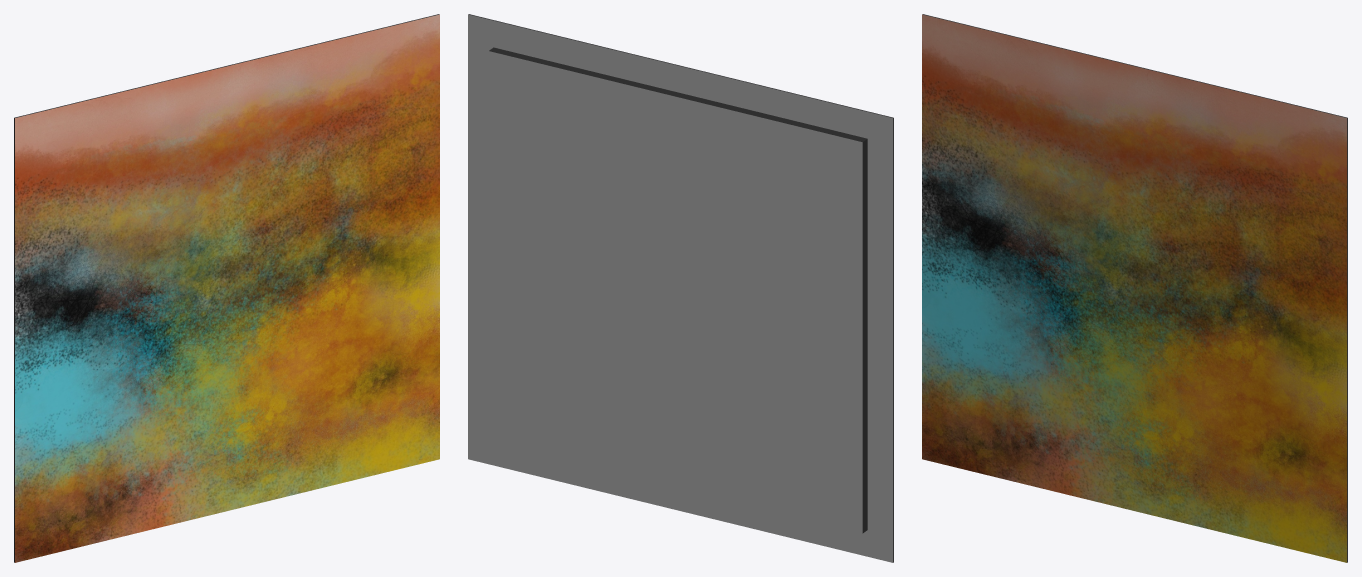
File: va238_grand_dibond.glb
The picture shows the model from 3 angles, left to right: view 1: azimuth 30°, elevation 25°; view 2: azimuth 150°, elevation 25°; view 3: azimuth 330°, elevation 25°; orthographic projection.
Visible parts, largest first — view 1: va238_grand_dibond; view 2: va238_grand_dibond; view 3: va238_grand_dibond.
Boxes of the visible parts, x1,y1,x2,y2 form: va238_grand_dibond: [14, 14, 439, 562]; va238_grand_dibond: [468, 14, 893, 562]; va238_grand_dibond: [922, 14, 1347, 562].
Size of the model in its own units: 1 by 1 by 0.023.
4 materials, 1 textured.
